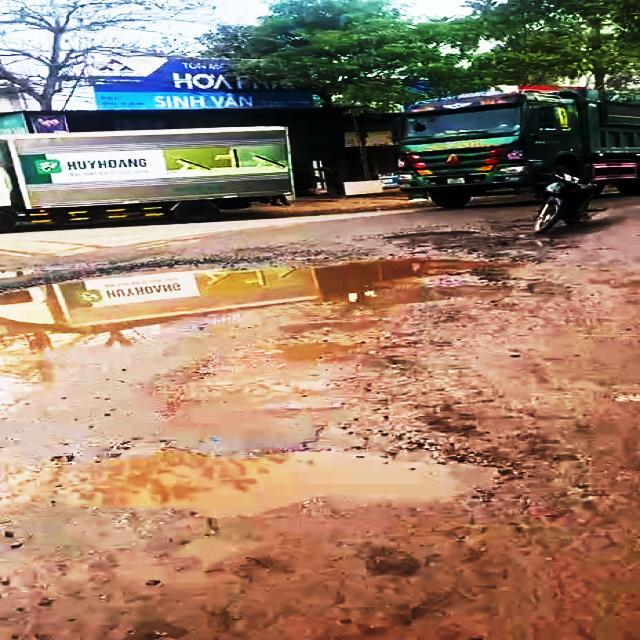pothole: (0, 231, 552, 426), (0, 433, 530, 525)
